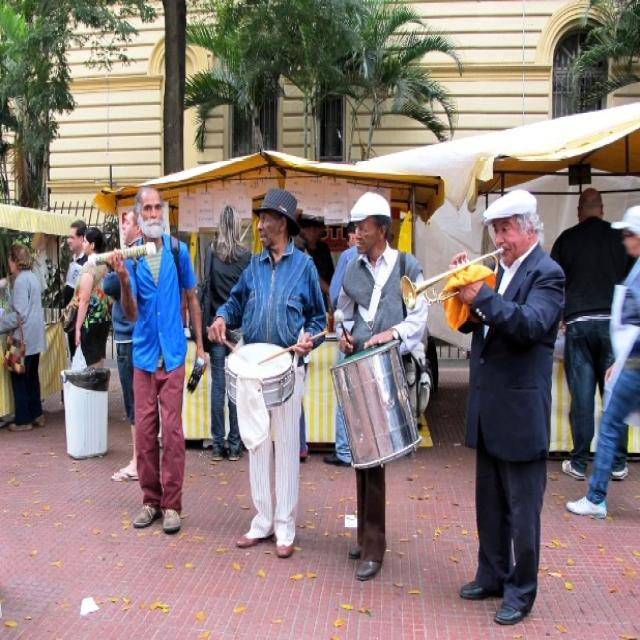body: (446, 184, 568, 625), (205, 187, 329, 561), (85, 183, 208, 534), (327, 187, 431, 582), (545, 187, 637, 484), (565, 203, 639, 526), (185, 202, 253, 461), (102, 204, 146, 482), (0, 240, 49, 432), (71, 227, 112, 370), (63, 219, 89, 366), (297, 218, 336, 313), (328, 219, 360, 313), (32, 225, 51, 297), (288, 228, 306, 252)
